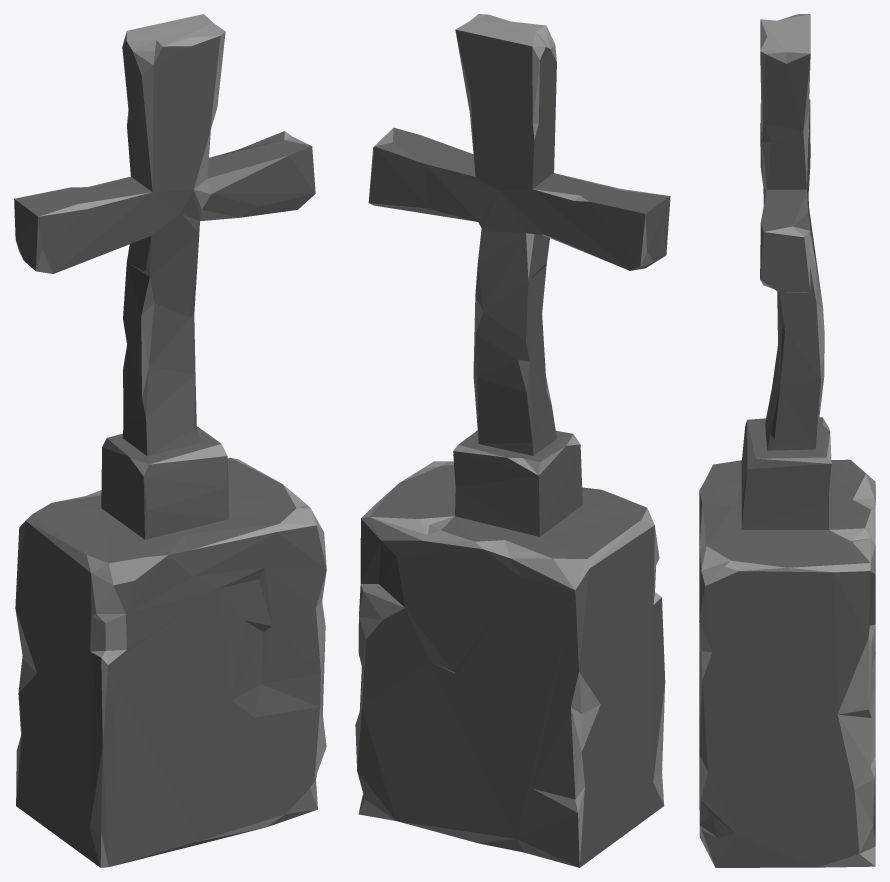
Rendered from MDungeon_Tombstone_Cross_01.FBX.
3 views of the same model, side by side, from view 1: azimuth 30°, elevation 25°; view 2: azimuth 150°, elevation 25°; view 3: azimuth 270°, elevation 25° (orthographic).
Parts seen in each view (by area): view 1: MDungeon_Tombstone_Cross_01_LOD0; view 2: MDungeon_Tombstone_Cross_01_LOD0; view 3: MDungeon_Tombstone_Cross_01_LOD0.
Part boxes in pixels (x1=…): MDungeon_Tombstone_Cross_01_LOD0: x1=14, y1=14, x2=326, y2=867; MDungeon_Tombstone_Cross_01_LOD0: x1=355, y1=14, x2=670, y2=867; MDungeon_Tombstone_Cross_01_LOD0: x1=699, y1=14, x2=875, y2=867.
Size of what is drawn, in the model's own units: 0.8255 by 2.22 by 0.4528.
